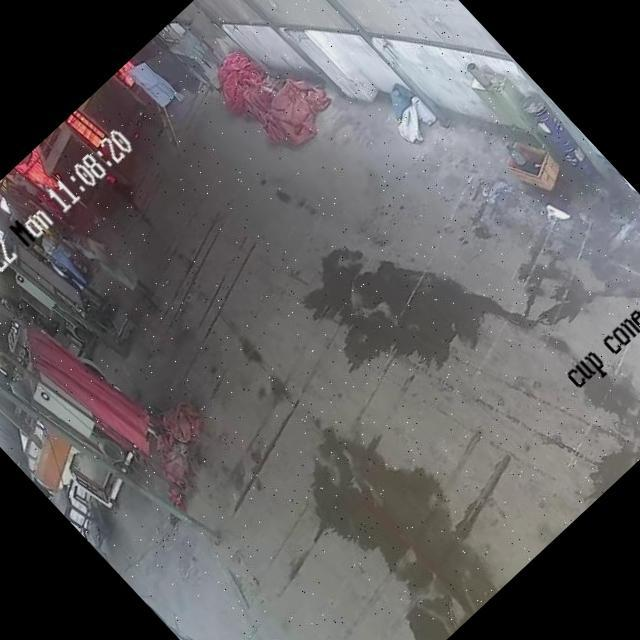person: (67, 216, 162, 313)
